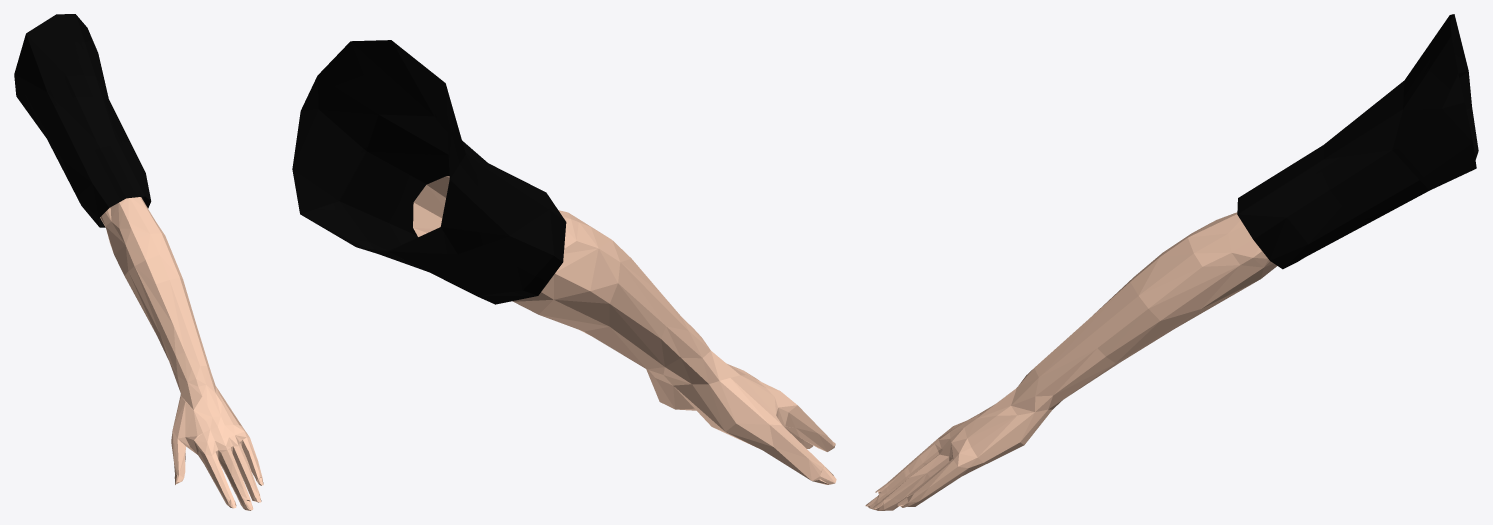
Rendered from brazo_izquierdo.obj.
The picture shows the model from 3 angles, left to right: view 1: azimuth 30°, elevation 25°; view 2: azimuth 150°, elevation 25°; view 3: azimuth 270°, elevation 25°; orthographic projection. The views are drawn at different scales.
Size of the model in its own units: 0.6658 by 2.38 by 2.64.
Materials: 2 (2 with a texture image).
